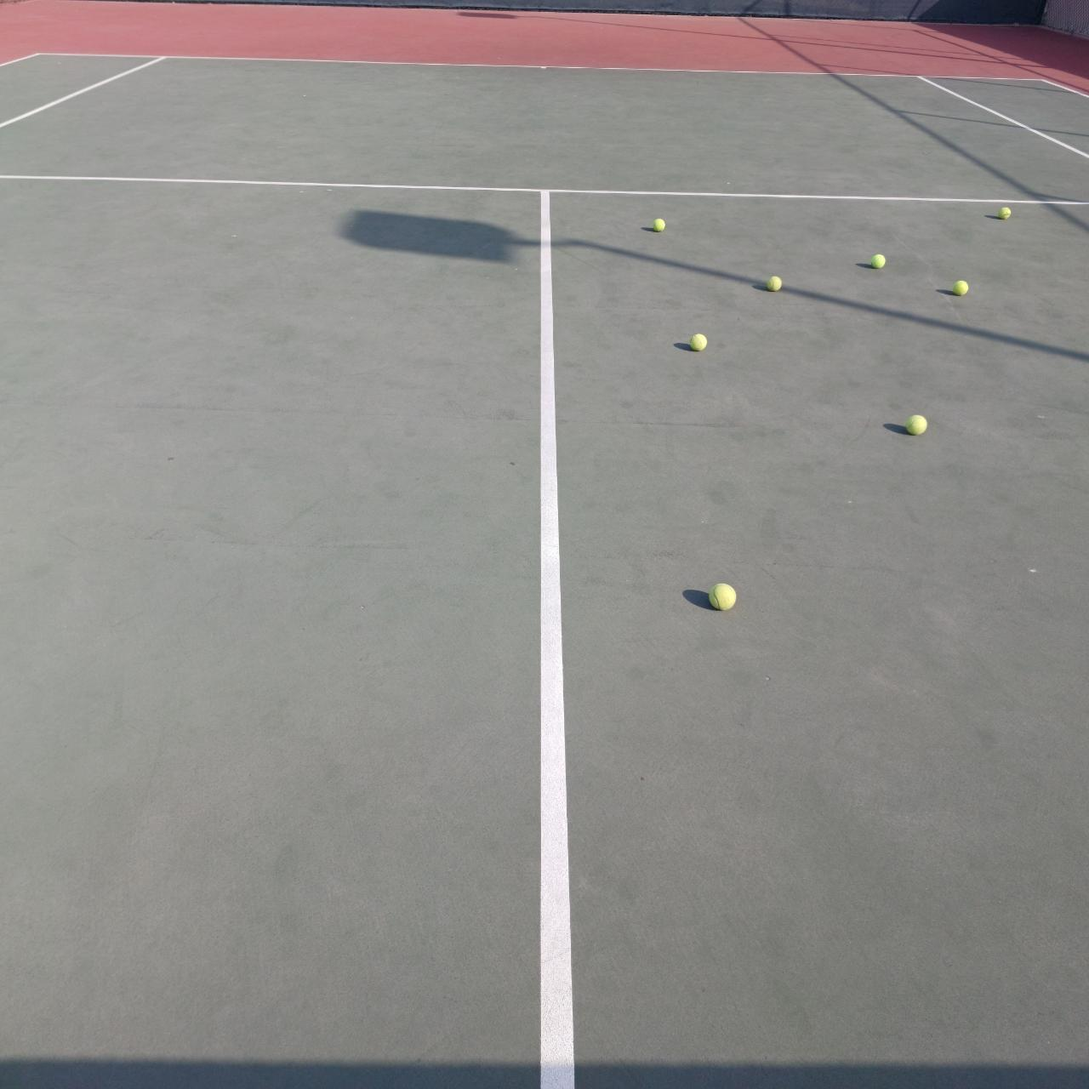tennis-ball: (708, 580, 737, 610), (904, 412, 927, 435), (689, 331, 707, 351), (870, 251, 886, 269), (767, 273, 782, 291), (953, 277, 968, 295), (652, 216, 665, 231), (999, 205, 1011, 219)
